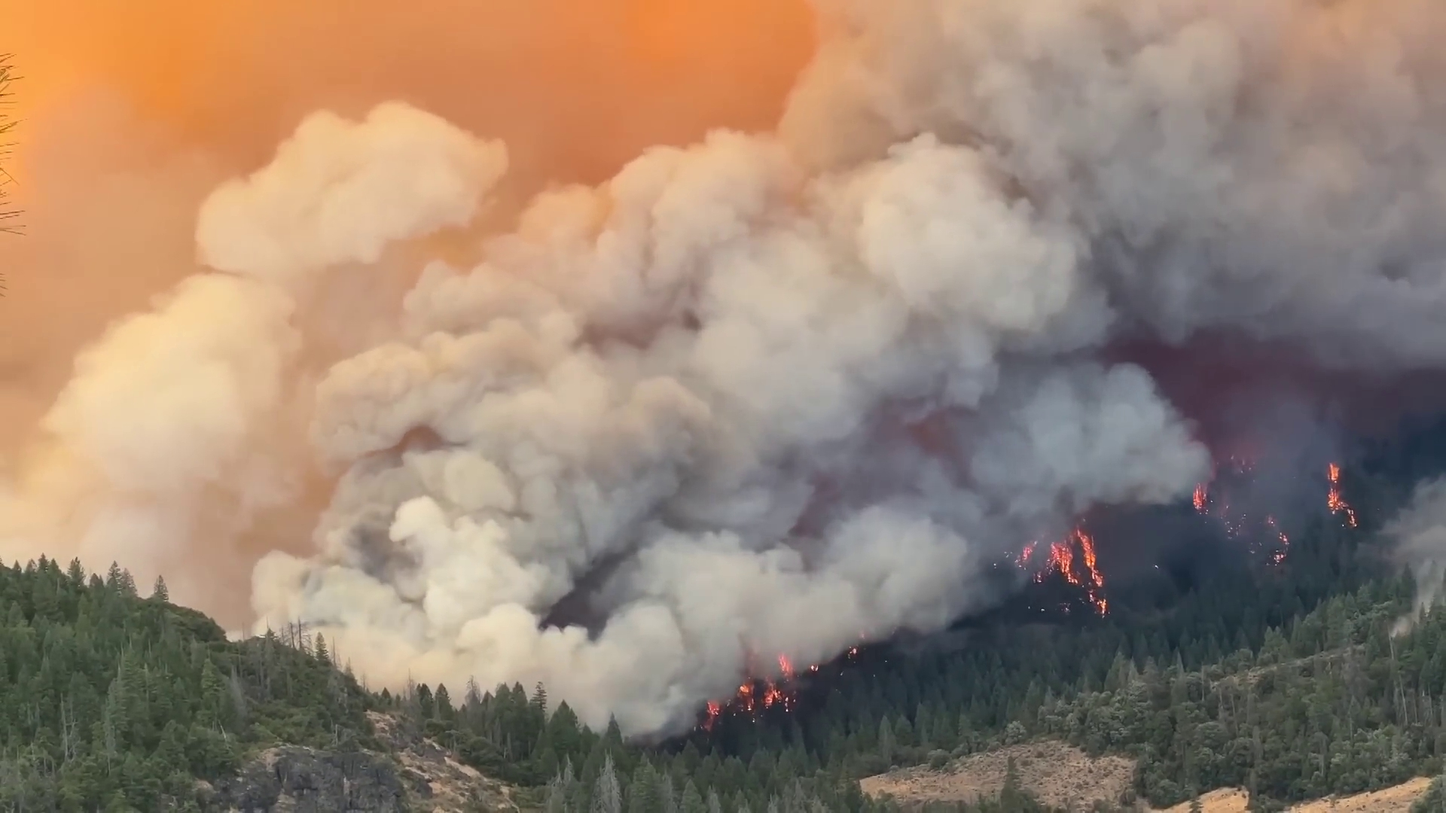forest_fire: (1016, 526, 1108, 616), (700, 654, 801, 730), (1192, 483, 1243, 535), (1326, 462, 1358, 528), (1264, 516, 1289, 564)
